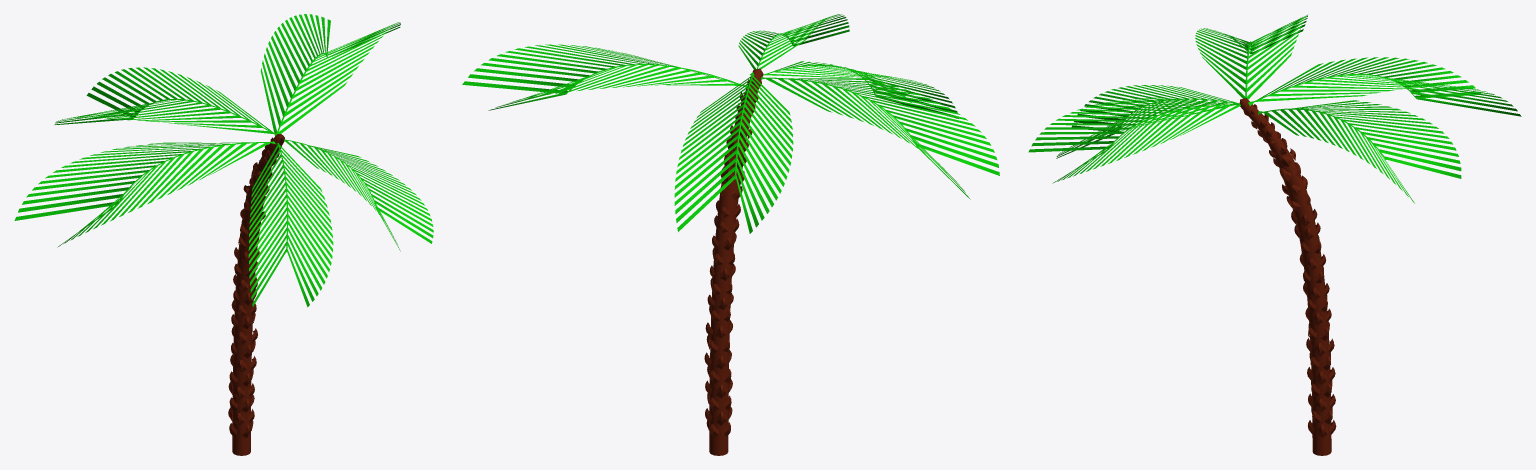
Rendered from palmtree.obj.
3 renders of one model, left to right at view 1: azimuth 30°, elevation 25°; view 2: azimuth 150°, elevation 25°; view 3: azimuth 270°, elevation 25°, orthographic. The views are drawn at different scales.
Visible parts, largest first — view 1: BezierCurve.003, BezierCurve; view 2: BezierCurve.003, BezierCurve; view 3: BezierCurve.003, BezierCurve.
Part boxes in pixels (left/top/right/bottom): BezierCurve.003: left=14, top=14, right=433, bottom=307; BezierCurve: left=228, top=134, right=284, bottom=455; BezierCurve.003: left=462, top=14, right=999, bottom=233; BezierCurve: left=704, top=68, right=763, bottom=455; BezierCurve.003: left=1028, top=15, right=1521, bottom=203; BezierCurve: left=1239, top=98, right=1336, bottom=455.
Bounding box in the file's own units: 2.25 × 1.8 × 2.13.
